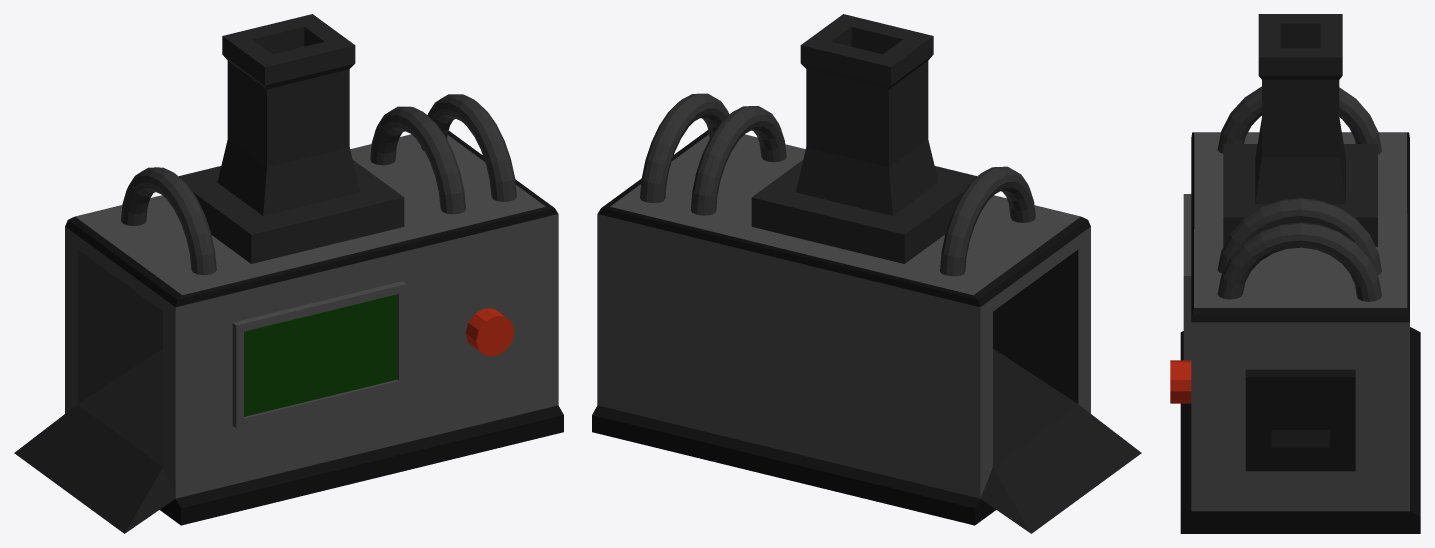
The model's file is LetterMachine1.glb.
3 views of the same model, side by side, from view 1: azimuth 30°, elevation 25°; view 2: azimuth 150°, elevation 25°; view 3: azimuth 270°, elevation 25° (orthographic).
Parts seen in each view (by area): view 1: Cube, Cylinder; view 2: Cube; view 3: Cube, Cylinder.
Boxes of the visible parts, box(x1,y1,x2,y2) form: Cube: box(14, 14, 563, 533); Cylinder: box(465, 308, 514, 356); Cube: box(592, 14, 1141, 533); Cube: box(1180, 14, 1420, 533); Cylinder: box(1170, 360, 1191, 403).
Bounding box in the file's own units: 9.38 × 7.97 × 4.58.
Materials: 1 (1 with a texture image).
